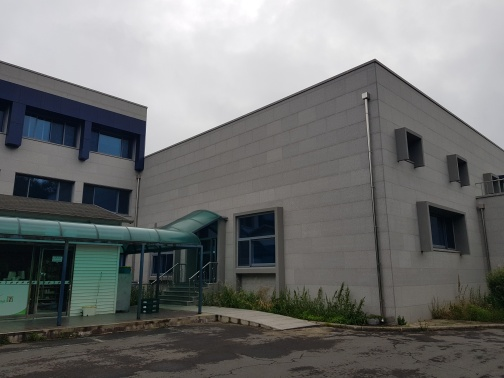College of Social Sciences: (11, 49, 503, 330), (12, 193, 240, 316)
